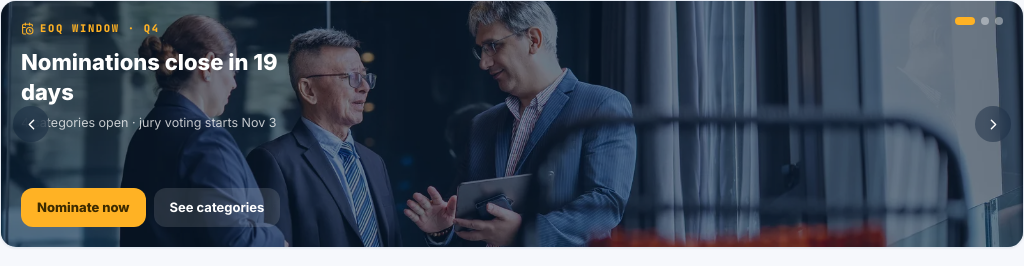
Test: EoQShowcase (integration) › starts on the EoQ slide and advances on the next arrow
Check: the text "Nominations close in 19 days" is shown, box [21,47,321,107]
Click the button named "Next slide" at point(993, 124), box [975,106,1011,142]
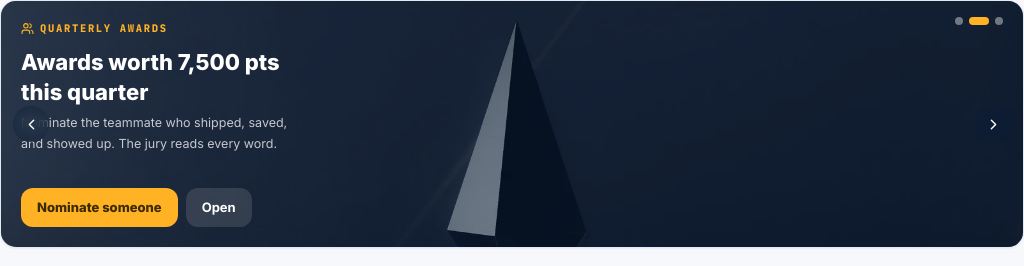
Check: the text "Awards worth 7,500 pts this quarter" is shown, box [21,47,321,107]
